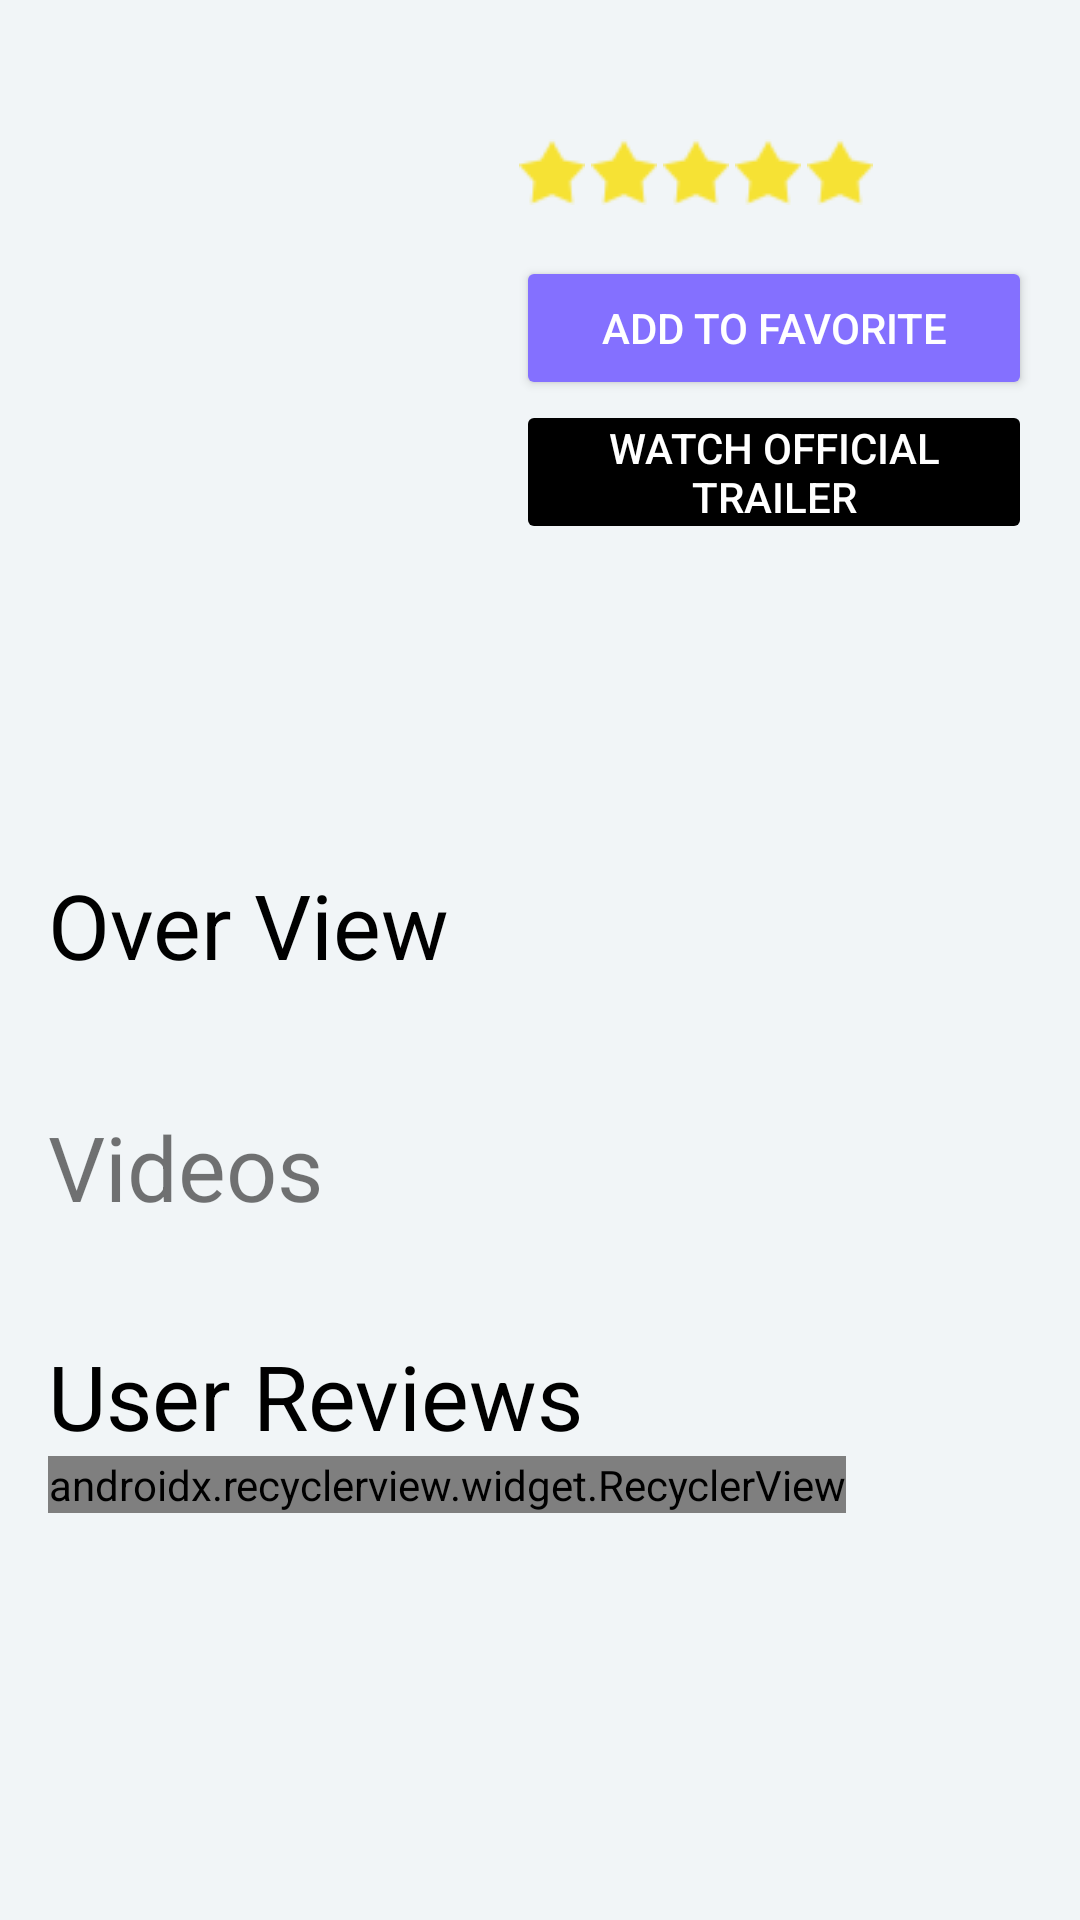

Point at icon controls on the screen. Image size 1080x1920, points as (x,y).
star: (552,172), (624,172), (696,172), (768,172), (840,172)
